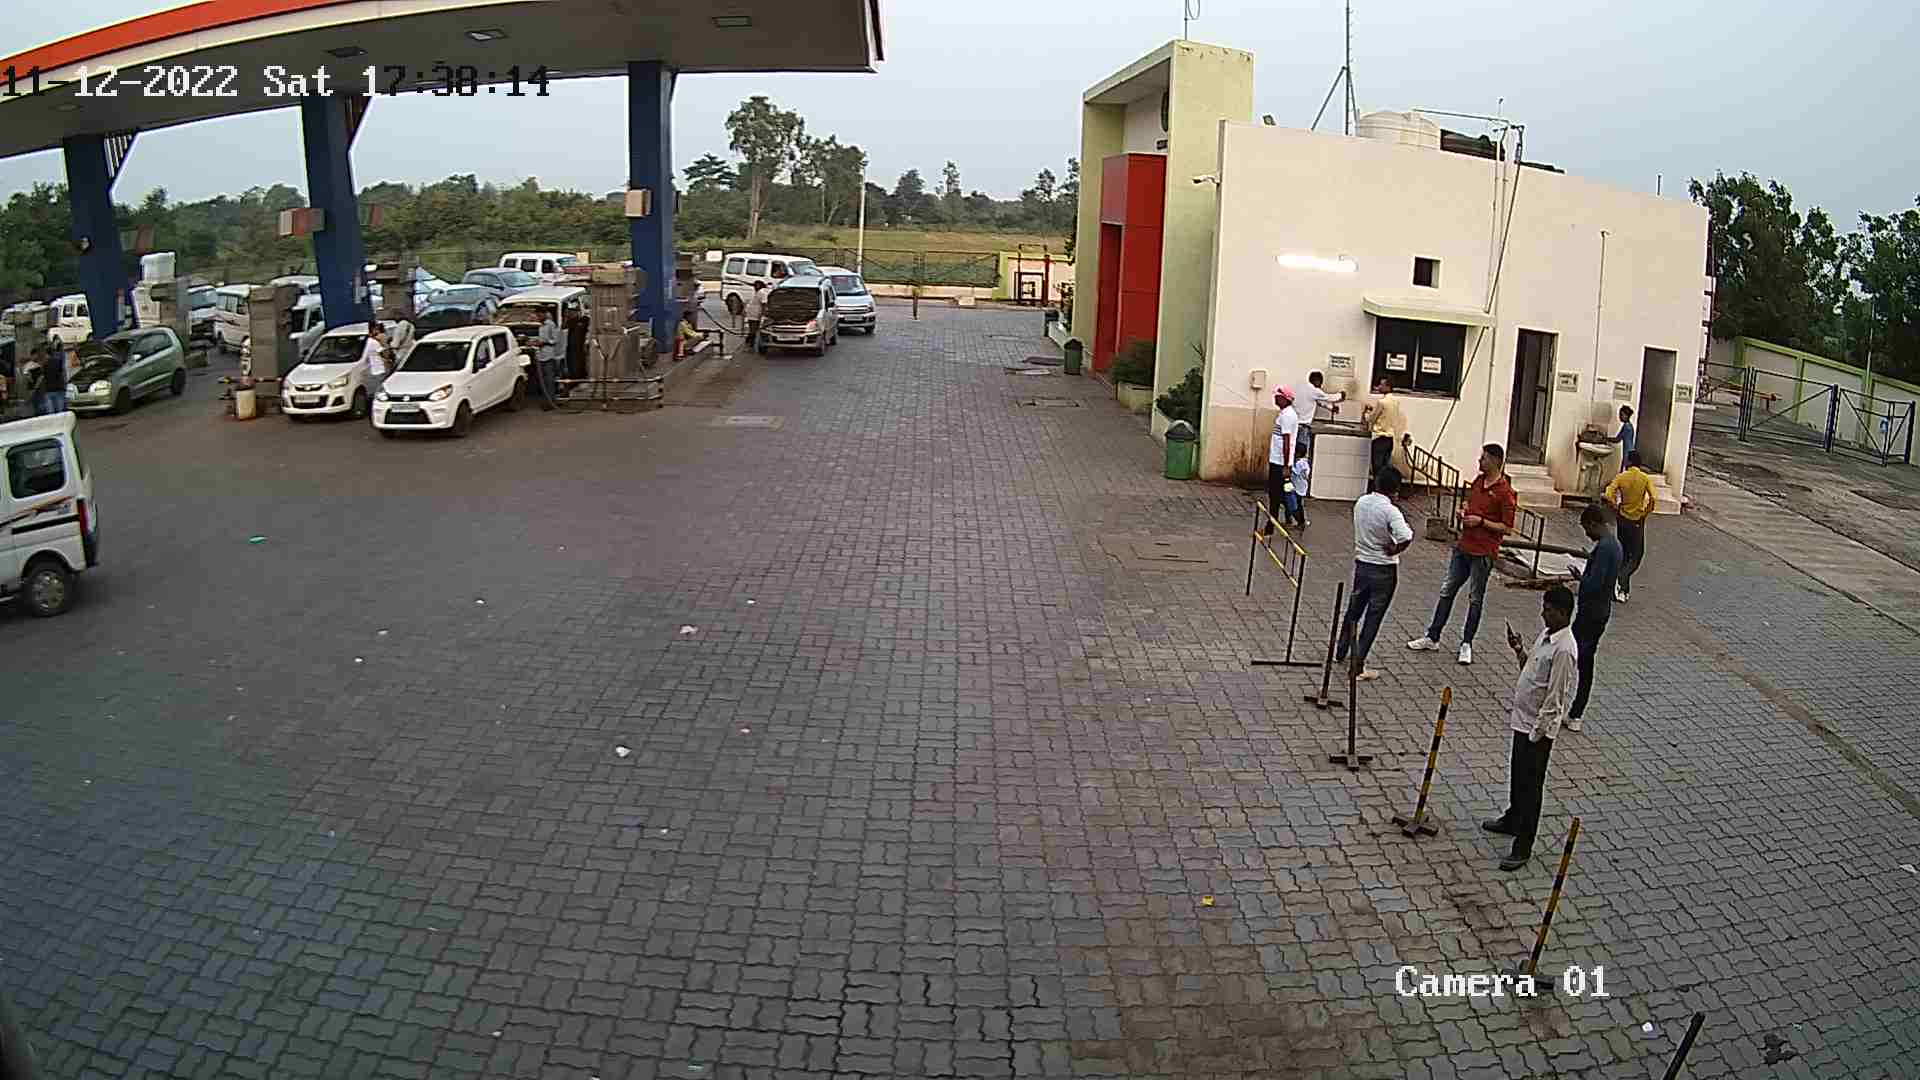Car: (0, 400, 111, 626), (364, 314, 534, 446), (272, 309, 422, 427), (483, 274, 596, 401), (57, 320, 195, 422), (748, 269, 844, 361), (709, 243, 820, 320), (793, 257, 884, 339), (409, 273, 508, 345), (492, 247, 593, 299), (272, 281, 328, 372), (200, 278, 262, 353), (458, 260, 546, 307), (396, 258, 458, 320), (174, 276, 222, 353)
